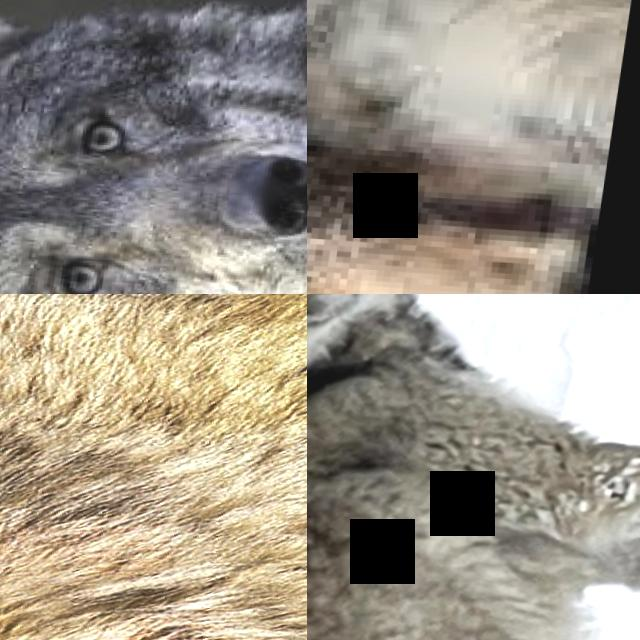wolf: (307, 294, 640, 640), (0, 294, 307, 640), (307, 0, 640, 294), (0, 0, 307, 294)
